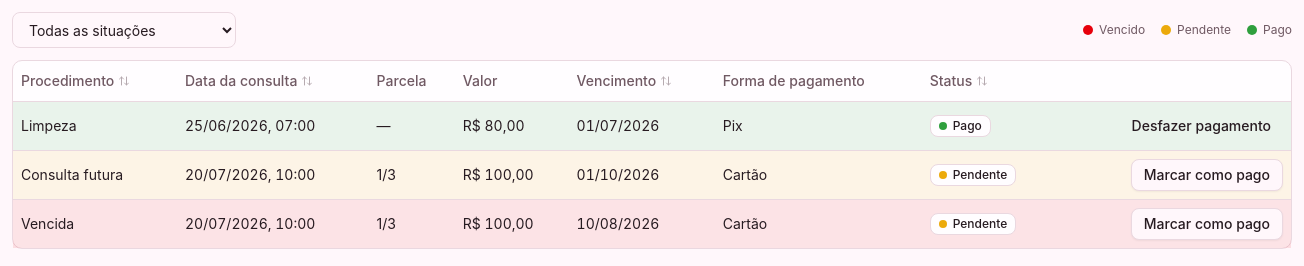
AbaFinanceiro › filtro por situação: "Vencido" mostra só os lançamentos vencidos
Select "Vencido" in the dropdown named "Filtrar por situação" at (124, 30), box left=12, top=12, right=236, bottom=48
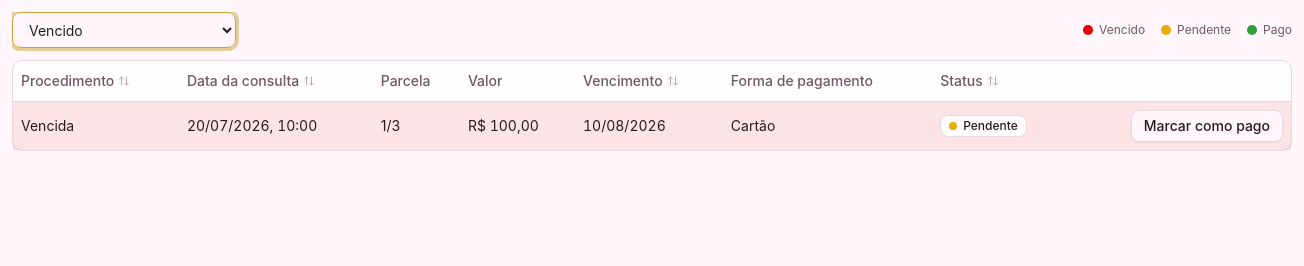
Check: the text "Vencida" is shown, box left=13, top=101, right=179, bottom=150
Check: the text "Consulta futura" is gone
Check: the text "Limpeza" is gone
